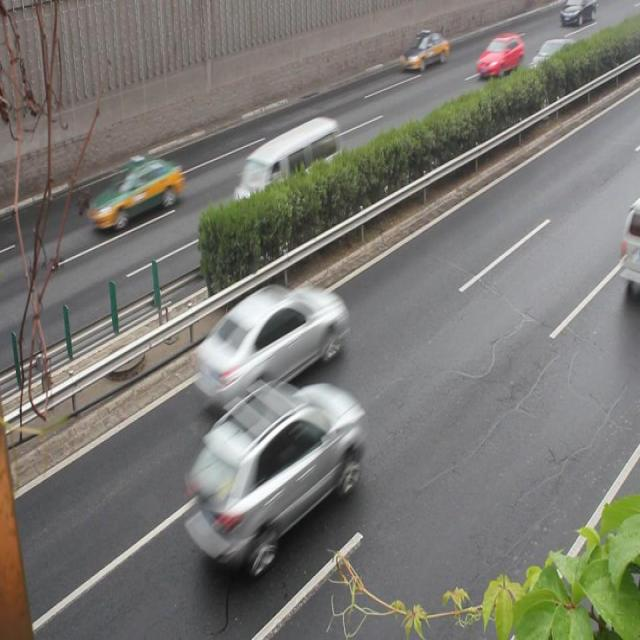car: (183, 380, 360, 565), (192, 286, 344, 405), (88, 156, 184, 230), (475, 31, 521, 78), (399, 32, 447, 70)
truck: (233, 117, 339, 218)
